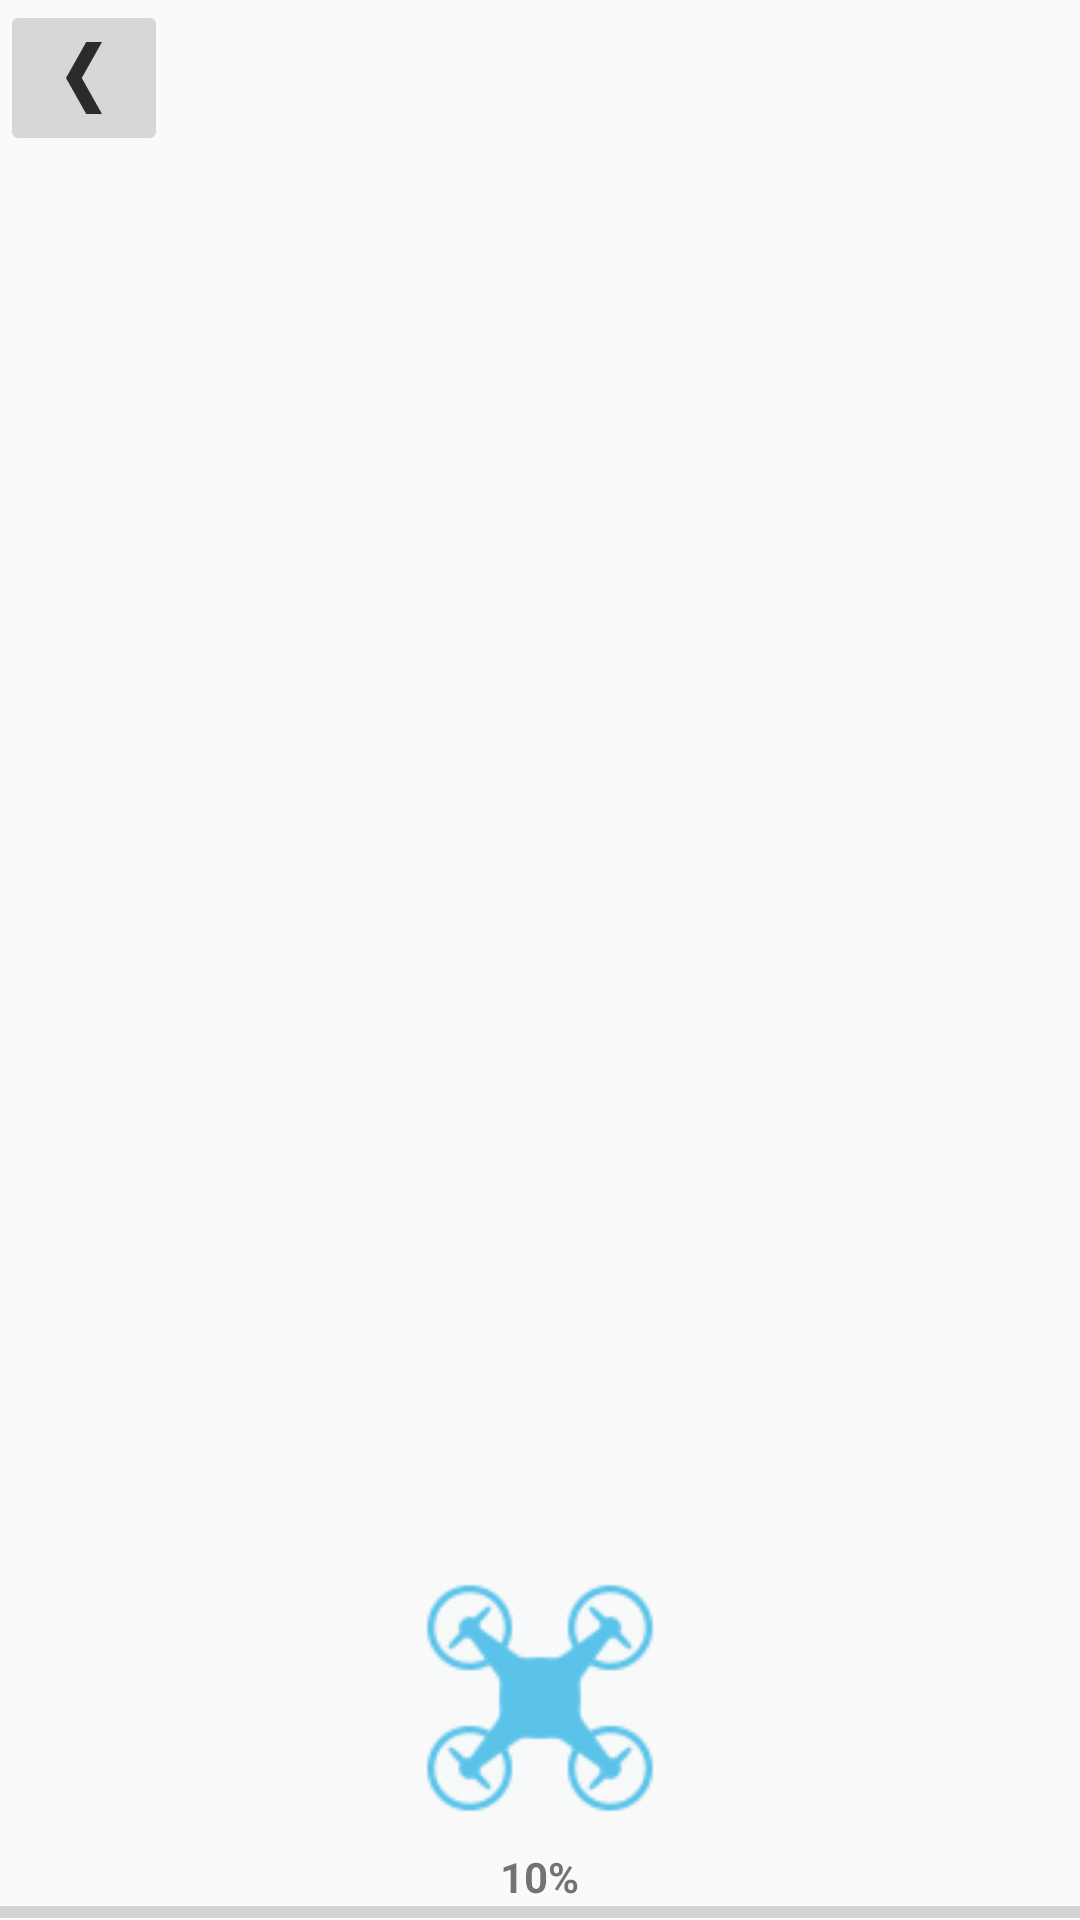

Icon bounding boxes for this 1080×1920 phone screenshot, format {"x1": x1, "y1": y1, "x2": x2, "y2": y2}:
back: {"x1": 12, "y1": 18, "x2": 156, "y2": 138}
drone shape: {"x1": 426, "y1": 1584, "x2": 654, "y2": 1812}
